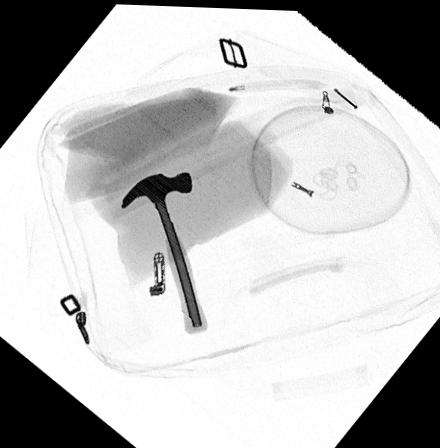Hammer: (120, 170, 208, 333)
